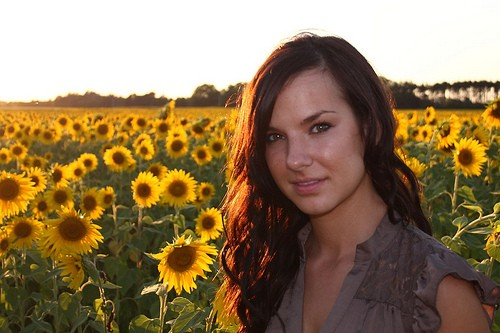flower: (146, 230, 220, 295), (41, 202, 105, 256), (450, 133, 488, 180), (0, 169, 37, 217), (157, 168, 199, 210), (7, 215, 42, 251), (130, 172, 163, 208), (191, 206, 225, 240), (103, 145, 134, 176), (79, 188, 109, 220), (43, 186, 72, 212), (165, 135, 189, 162), (189, 145, 214, 167)
